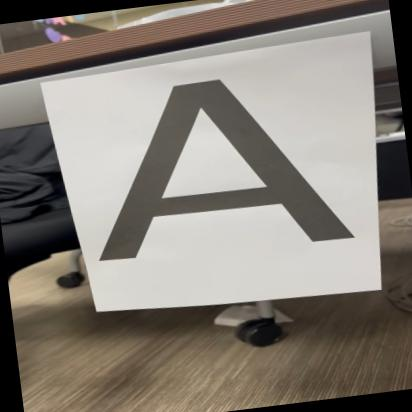seat: (61, 52, 383, 282)
